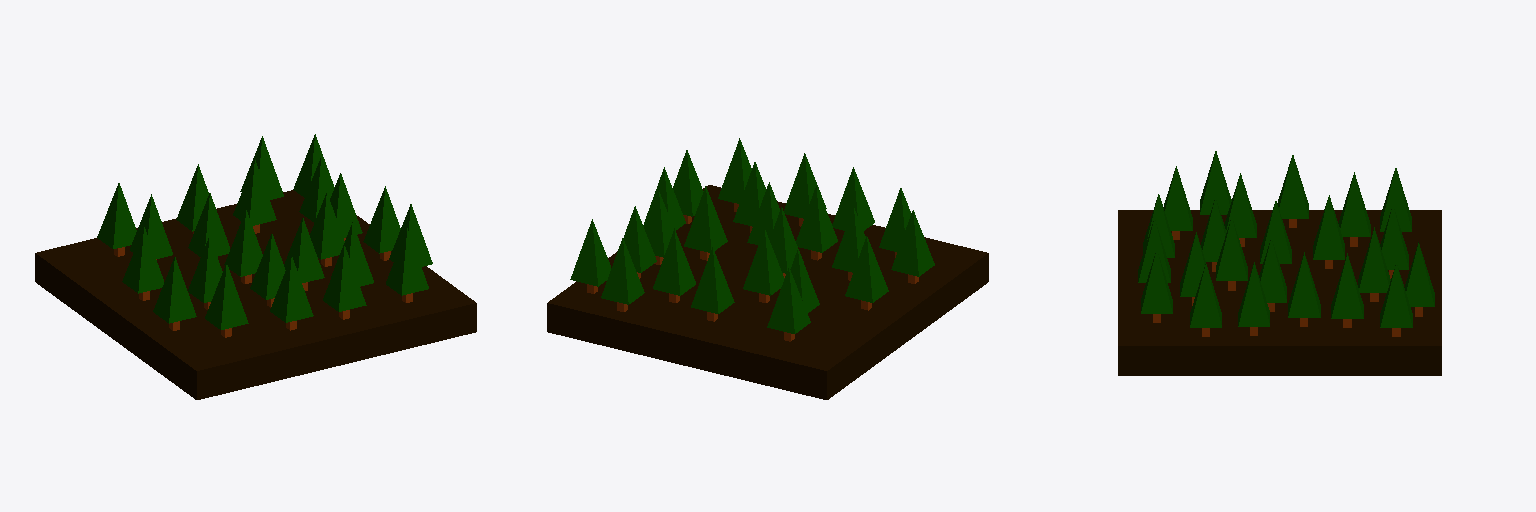
Rendered from Forest4.obj.
3 renders of one model, left to right at view 1: azimuth 30°, elevation 25°; view 2: azimuth 150°, elevation 25°; view 3: azimuth 270°, elevation 25°, orthographic.
Visible parts, largest first — view 1: Tilebase001, Pyramid002, Pyramid018, Pyramid024, Pyramid019, Pyramid022, Pyramid013, Pyramid012, Pyramid008, Pyramid004, Pyramid015, Pyramid005 (+12 smaller); view 2: Tilebase001, Pyramid013, Pyramid008, Pyramid021, Pyramid022, Pyramid012, Pyramid010, Pyramid023, Pyramid005, Pyramid009, Pyramid020, Pyramid024 (+12 smaller); view 3: Tilebase001, Pyramid020, Pyramid014, Pyramid006, Pyramid009, Pyramid017, Pyramid015, Pyramid018, Pyramid008, Pyramid016, Pyramid011, Pyramid013 (+12 smaller).
Part boxes in pixels (x1,y1,x2,y2): Tilebase001: (35, 190, 476, 399); Pyramid002: (205, 263, 248, 329); Pyramid018: (386, 228, 428, 295); Pyramid024: (270, 256, 313, 322); Pyramid019: (323, 245, 366, 311); Pyramid022: (153, 257, 196, 323); Pyramid013: (122, 227, 163, 293); Pyramid012: (97, 183, 136, 248); Pyramid008: (233, 160, 276, 225); Pyramid004: (224, 210, 262, 276); Pyramid015: (363, 186, 400, 253); Pyramid005: (310, 193, 344, 259); Tilebase001: (547, 185, 988, 399); Pyramid013: (845, 236, 888, 302); Pyramid008: (653, 228, 695, 295); Pyramid021: (601, 238, 644, 304); Pyramid022: (891, 210, 934, 276); Pyramid012: (767, 268, 810, 333); Pyramid010: (691, 247, 734, 313); Pyramid023: (796, 185, 837, 252); Pyramid005: (684, 186, 727, 252); Pyramid009: (743, 229, 784, 295); Pyramid020: (570, 219, 610, 286); Pyramid024: (832, 167, 874, 230); Tilebase001: (1118, 210, 1441, 375); Pyramid020: (1380, 262, 1412, 327); Pyramid014: (1288, 252, 1320, 317); Pyramid006: (1331, 253, 1363, 318); Pyramid009: (1313, 195, 1344, 259); Pyramid017: (1190, 264, 1221, 327); Pyramid015: (1238, 262, 1269, 326); Pyramid018: (1141, 250, 1172, 313); Pyramid008: (1358, 227, 1390, 292); Pyramid016: (1216, 217, 1247, 280); Pyramid011: (1338, 172, 1370, 236); Pyramid013: (1277, 155, 1308, 218).
Size of the model in its own units: 10 by 3.5 by 10.